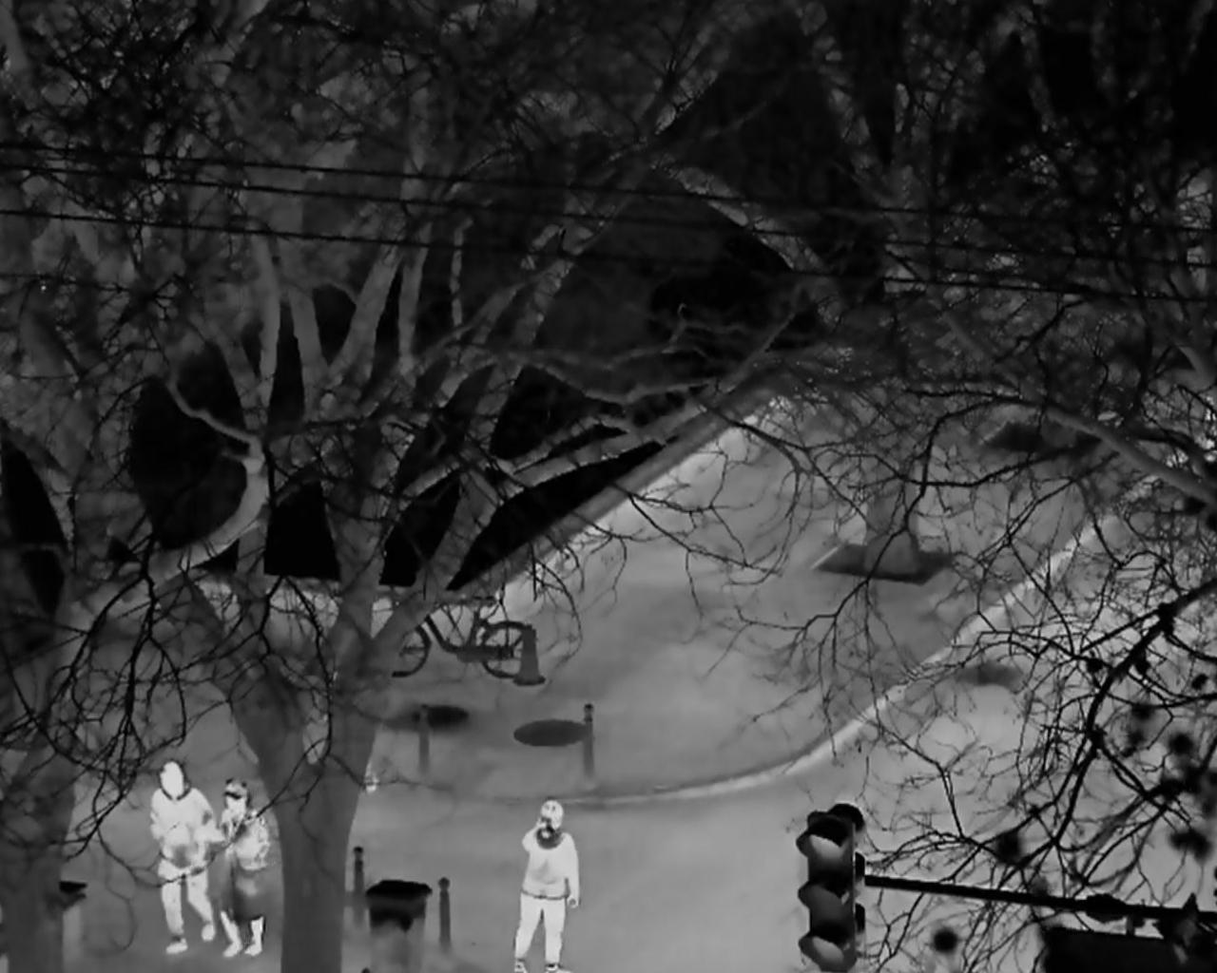person: (146, 760, 216, 956), (513, 797, 580, 973), (215, 774, 271, 958)
